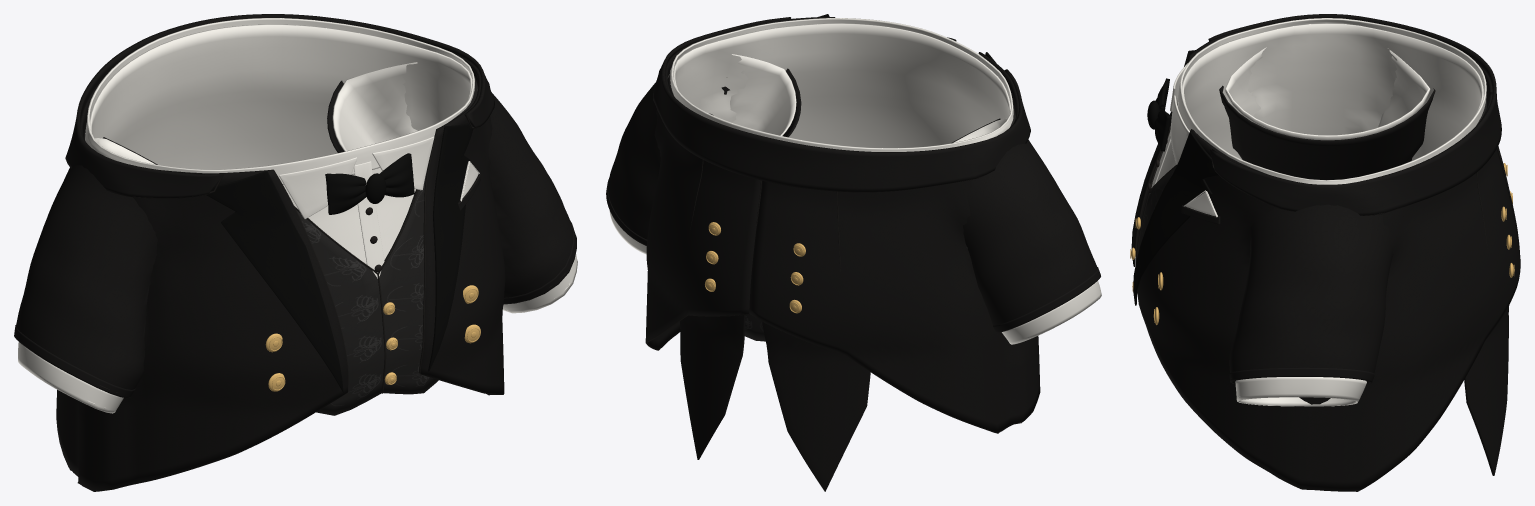
Rendered from musan-butler-outfit.glb.
3 renders of one model, left to right at view 1: azimuth 30°, elevation 25°; view 2: azimuth 150°, elevation 25°; view 3: azimuth 270°, elevation 25°, orthographic. The views are drawn at different scales.
Parts seen in each view (by area): view 1: ButlerOutfit; view 2: ButlerOutfit; view 3: ButlerOutfit.
Part boxes in pixels (x1,y1,x2,y2): ButlerOutfit: [14, 14, 577, 491]; ButlerOutfit: [606, 14, 1101, 491]; ButlerOutfit: [1130, 14, 1520, 491].
Size of the model in its own units: 0.8616 by 0.5948 by 0.5915.
Materials: 7 (4 with a texture image).
